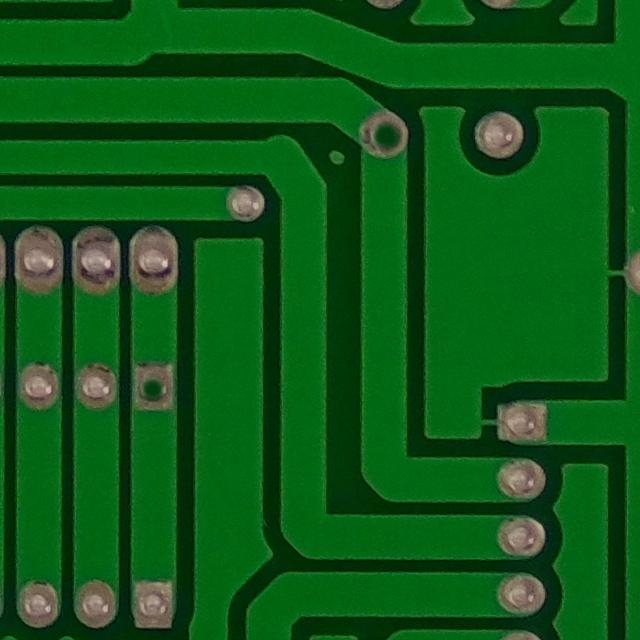missing_hole: (347, 97, 427, 173), (122, 348, 186, 424)
